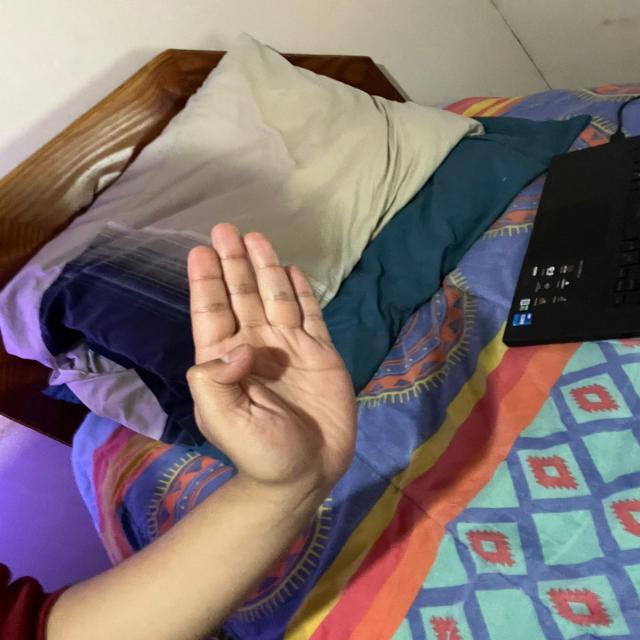B: (170, 216, 367, 483)
